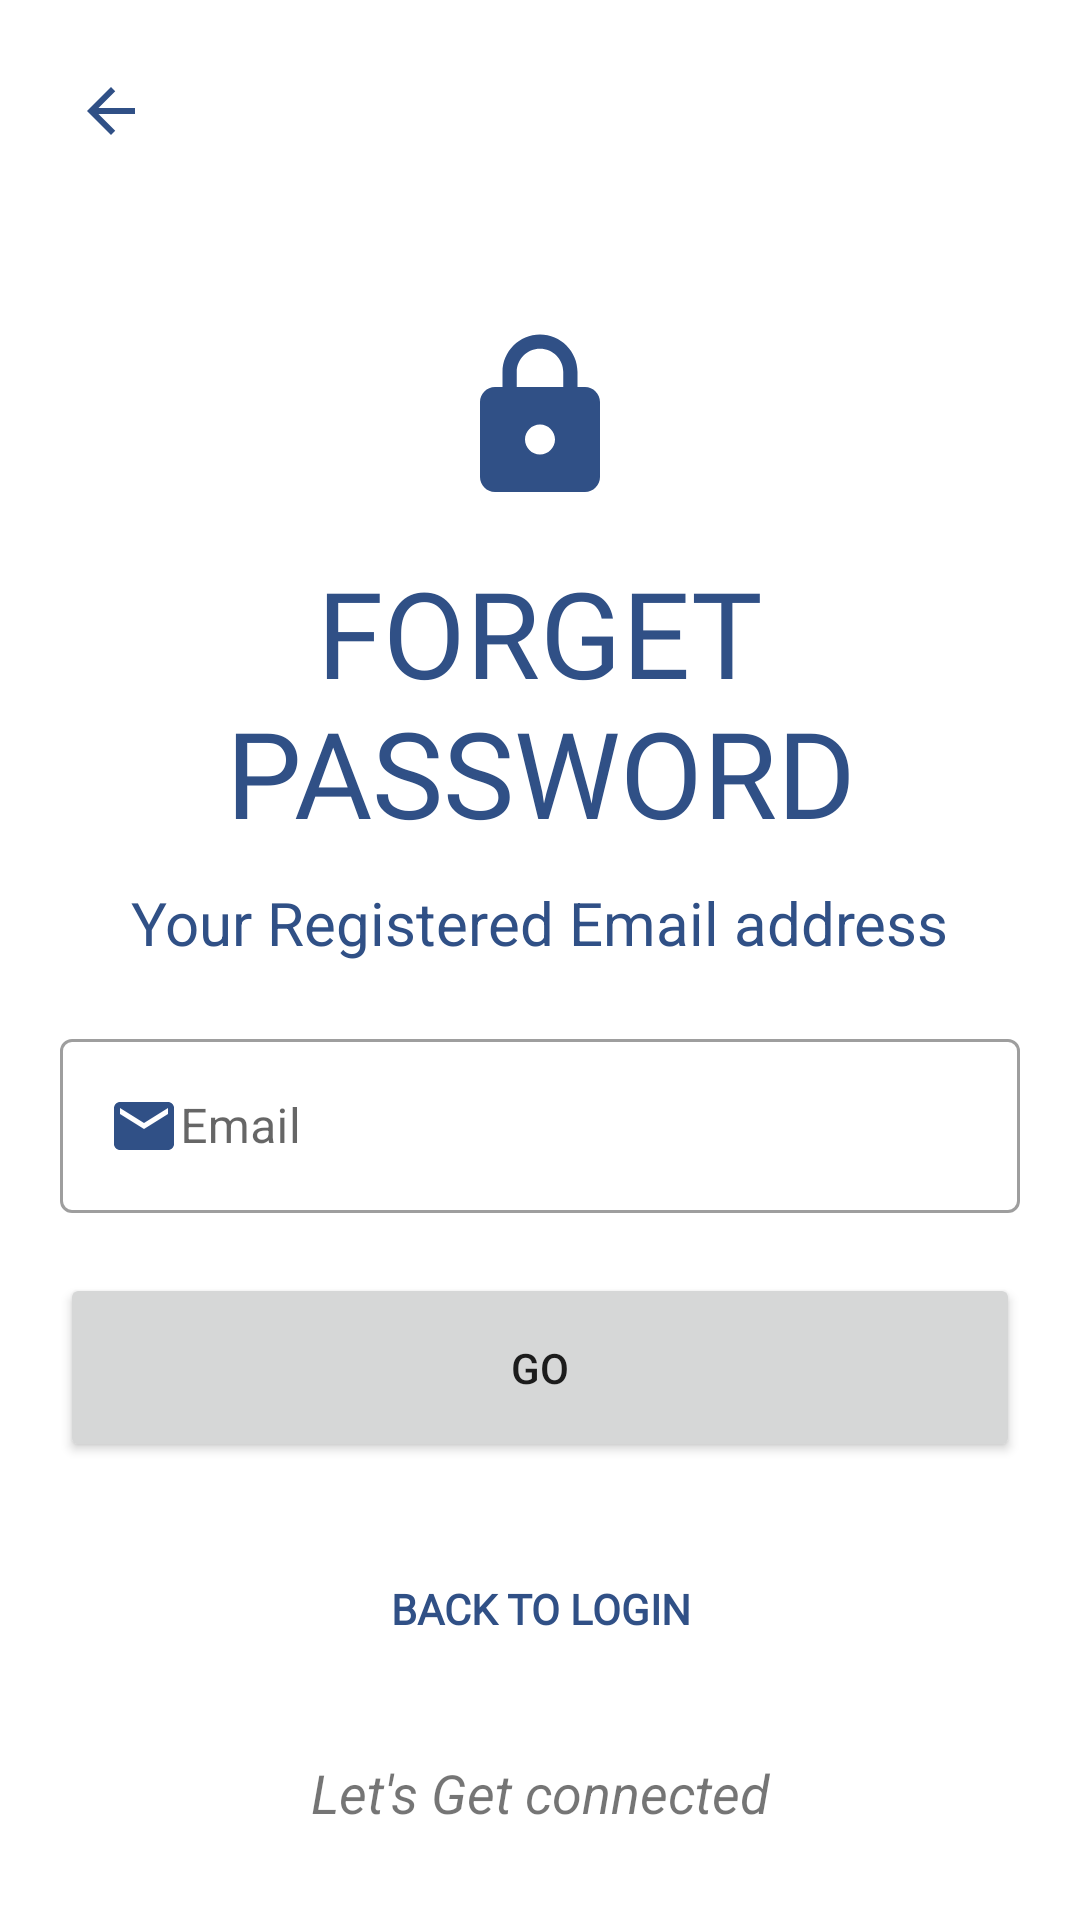

Where to tap for icons on this 1080px x 1920px app screen, as (x,y):
back: (111,111)
pwd lock: (540,413)
